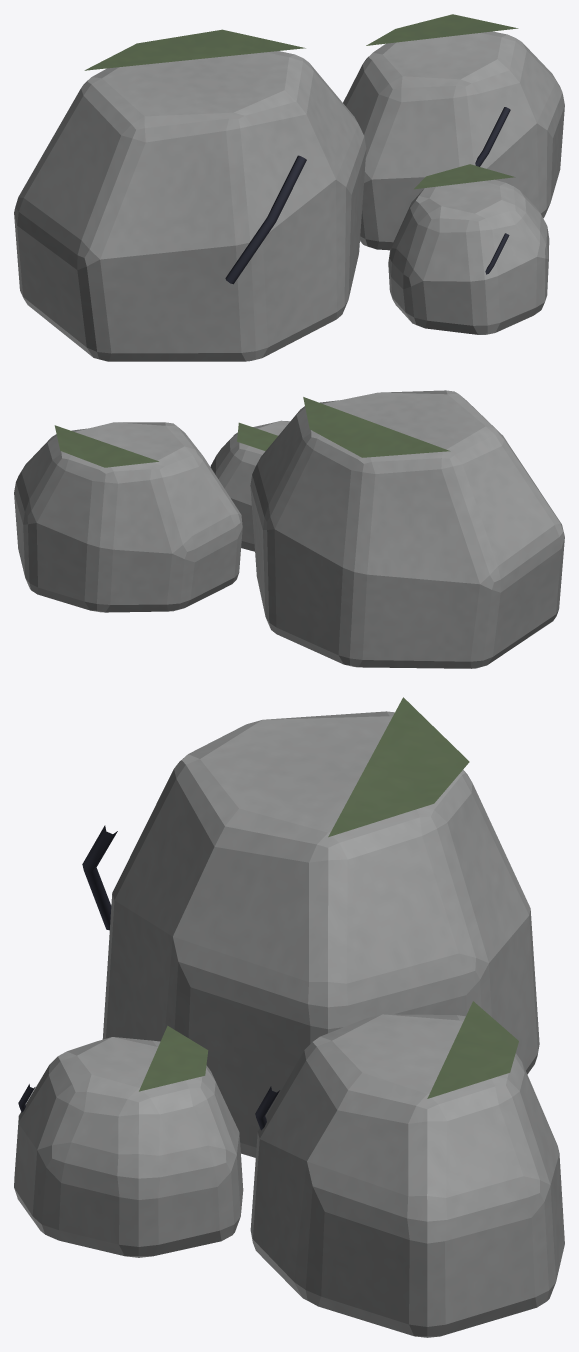
The model's file is rock_cluster.glb.
3 views of the same model, one above another, from view 1: azimuth 30°, elevation 25°; view 2: azimuth 150°, elevation 25°; view 3: azimuth 270°, elevation 25° (orthographic). The views are drawn at different scales.
Visible parts, largest first — view 1: rock_cluster_surface; view 2: rock_cluster_surface; view 3: rock_cluster_surface.
Boxes of the visible parts, x1,y1,x2,y2 form: rock_cluster_surface: (14, 14, 564, 361); rock_cluster_surface: (14, 390, 564, 668); rock_cluster_surface: (14, 697, 564, 1337).
Size of the model in its own units: 0.9876 by 0.3951 by 0.6113.
1 material, 1 textured.
